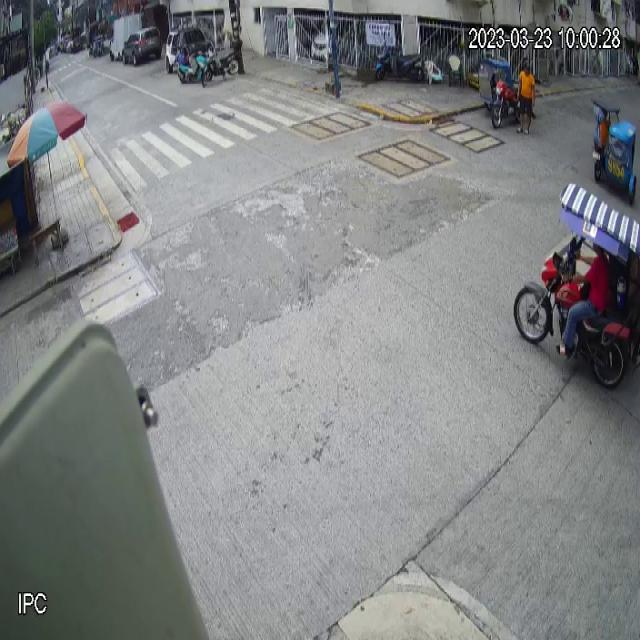Tricycle: (512, 182, 640, 388), (593, 96, 636, 205), (476, 55, 519, 128)
